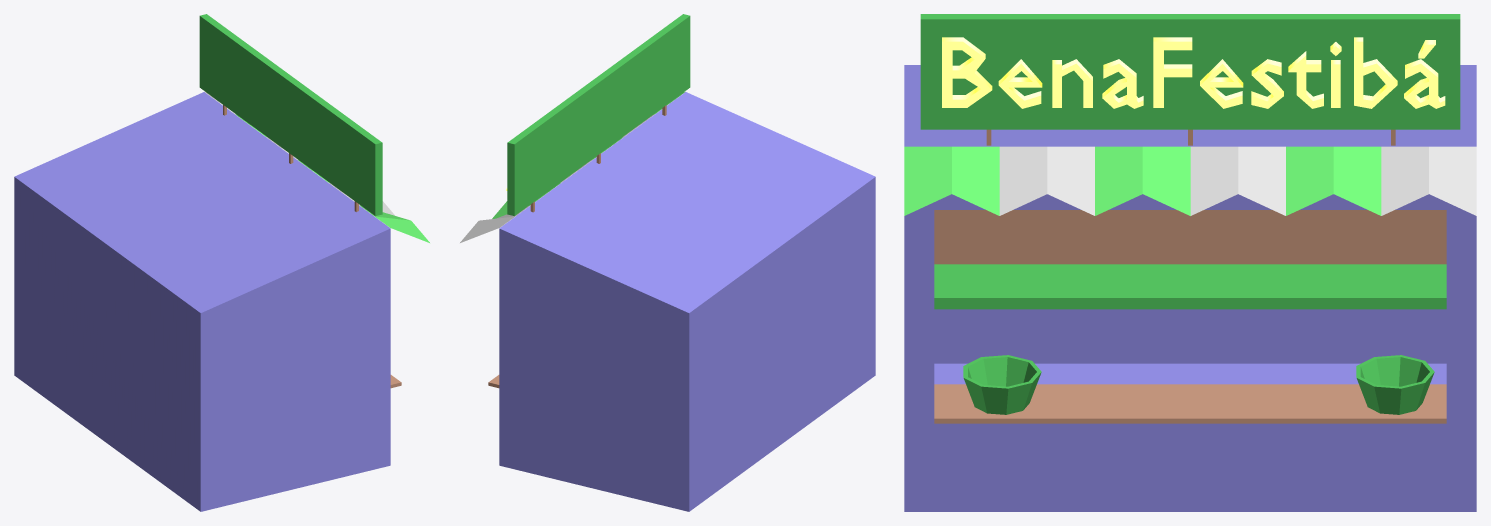
Rendered from VR_StandBotella.fbx.
3 renders of one model, left to right at view 1: azimuth 30°, elevation 25°; view 2: azimuth 150°, elevation 25°; view 3: azimuth 270°, elevation 25°, orthographic. The views are drawn at different scales.
Visible parts, largest first — view 1: StandBotella; view 2: StandBotella; view 3: StandBotella, text.
Boxes of the visible parts, x1,y1,x2,y2 form: StandBotella: (14, 14, 429, 511); StandBotella: (460, 14, 875, 511); StandBotella: (904, 14, 1476, 511); text: (942, 37, 1445, 108).
Bounding box in the file's own units: 1211 × 1609 × 1702.
